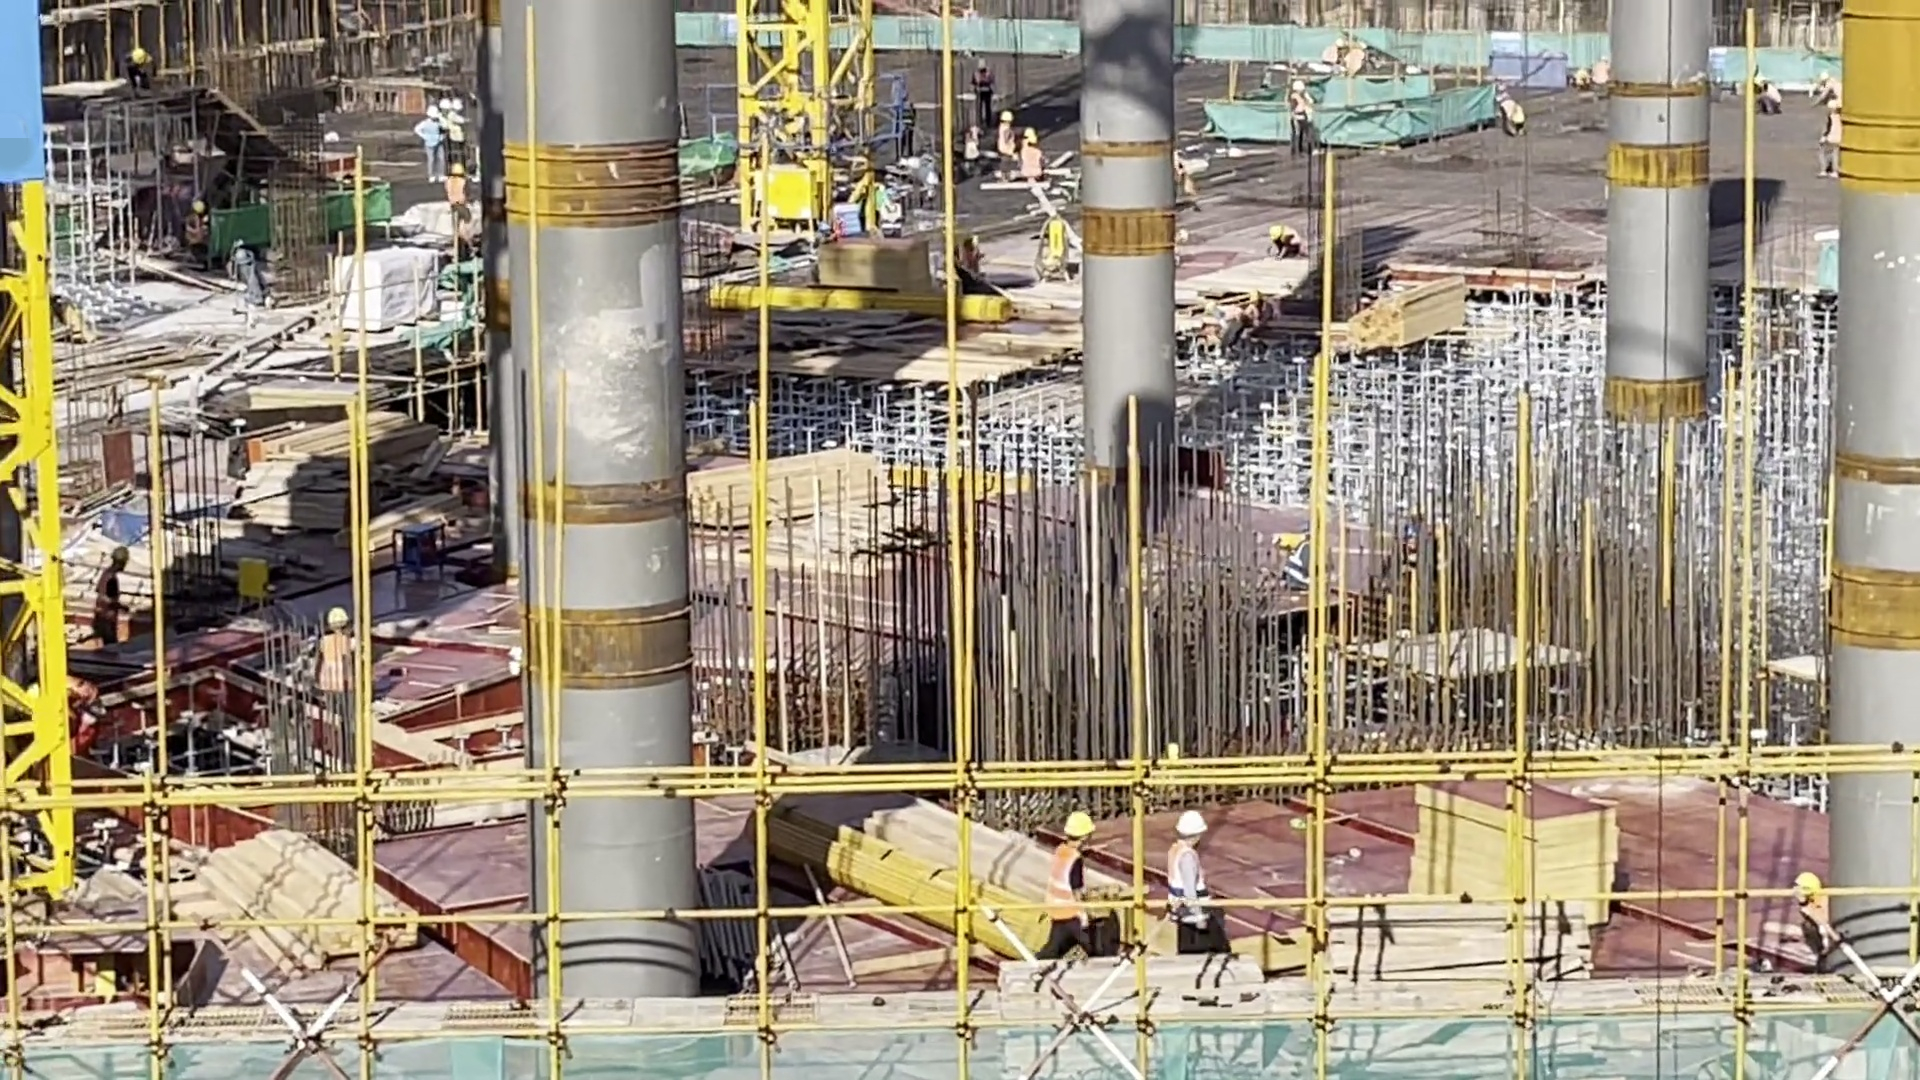board: (1420, 774, 1620, 906), (242, 434, 351, 531)
helmet: (1174, 810, 1209, 835), (1064, 812, 1094, 835)
person: (1036, 812, 1097, 954), (1163, 807, 1221, 946)
vest: (1043, 846, 1088, 916), (1169, 844, 1205, 914)
wood: (204, 824, 427, 969), (852, 804, 1035, 949), (1333, 891, 1590, 985), (679, 456, 905, 545), (1347, 287, 1471, 361)
